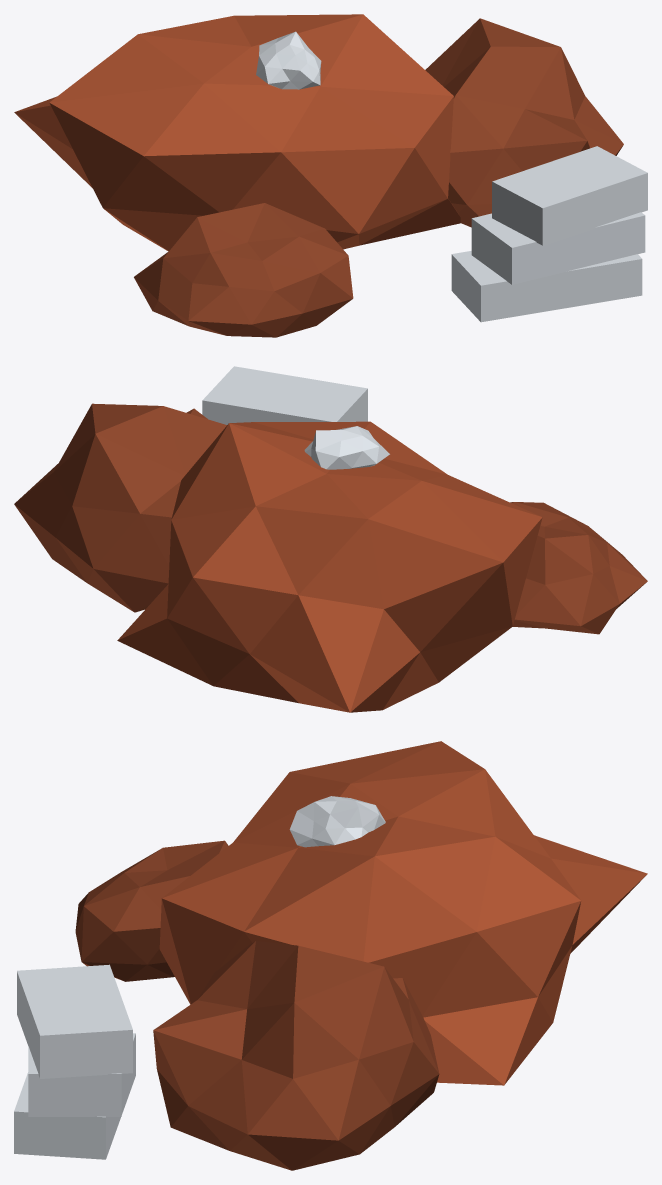
The model's file is resource_aluminum.fbx.
3 renders of one model, top to bottom at view 1: azimuth 30°, elevation 25°; view 2: azimuth 150°, elevation 25°; view 3: azimuth 270°, elevation 25°, orthographic. The views are drawn at different scales.
Parts seen in each view (by area): view 1: resource_aluminum_bauxite_00, resource_aluminum_bauxite2_01, resource_aluminum_alum_02; view 2: resource_aluminum_bauxite_00, resource_aluminum_bauxite2_01, resource_aluminum_alum_02; view 3: resource_aluminum_bauxite_00, resource_aluminum_bauxite2_01, resource_aluminum_alum_02.
Boxes of the visible parts, left/top/right/bottom form: resource_aluminum_bauxite_00: left=14, top=14, right=460, bottom=251; resource_aluminum_bauxite2_01: left=134, top=18, right=623, bottom=337; resource_aluminum_alum_02: left=256, top=31, right=647, bottom=322; resource_aluminum_bauxite_00: left=117, top=421, right=542, bottom=712; resource_aluminum_bauxite2_01: left=14, top=403, right=647, bottom=634; resource_aluminum_alum_02: left=202, top=366, right=389, bottom=469; resource_aluminum_bauxite_00: left=159, top=741, right=647, bottom=1085; resource_aluminum_bauxite2_01: left=75, top=840, right=439, bottom=1170; resource_aluminum_alum_02: left=14, top=796, right=385, bottom=1159.
Bounding box in the file's own units: 87.08 × 33.69 × 82.31.
